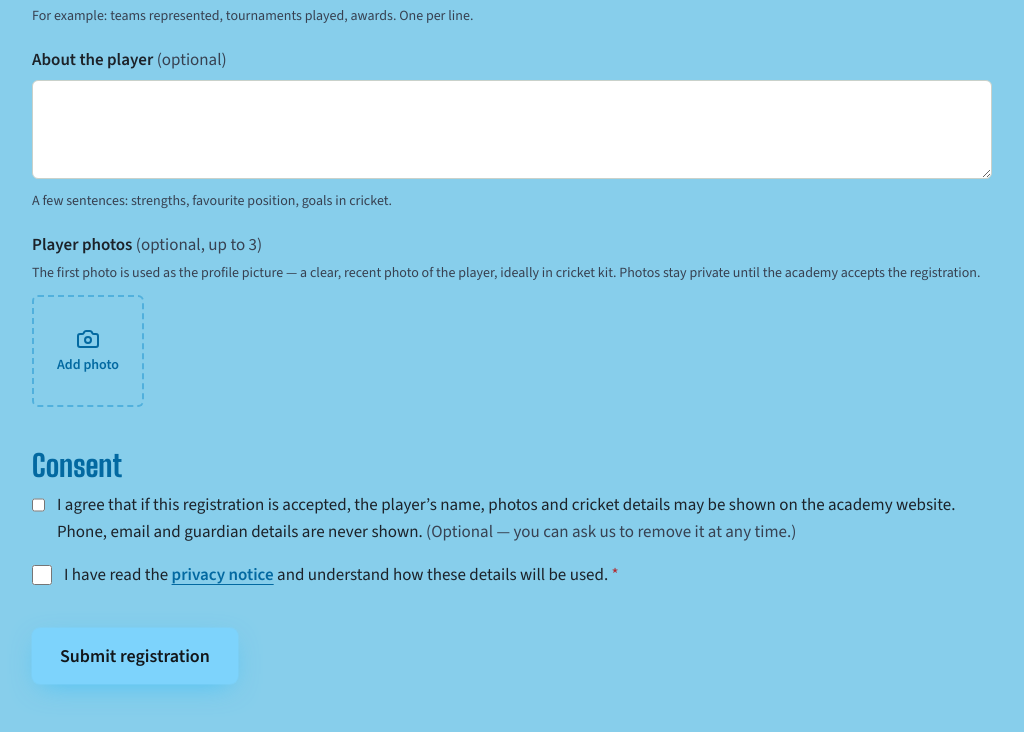
Registration form › shows validation errors and does not submit an empty form
(page scrolled)
What coordinates should you click on to do the following:
click the button "Submit registration"
I would click on:
 (135, 656)
Its box is [32,628,238,684].
(page scrolled)
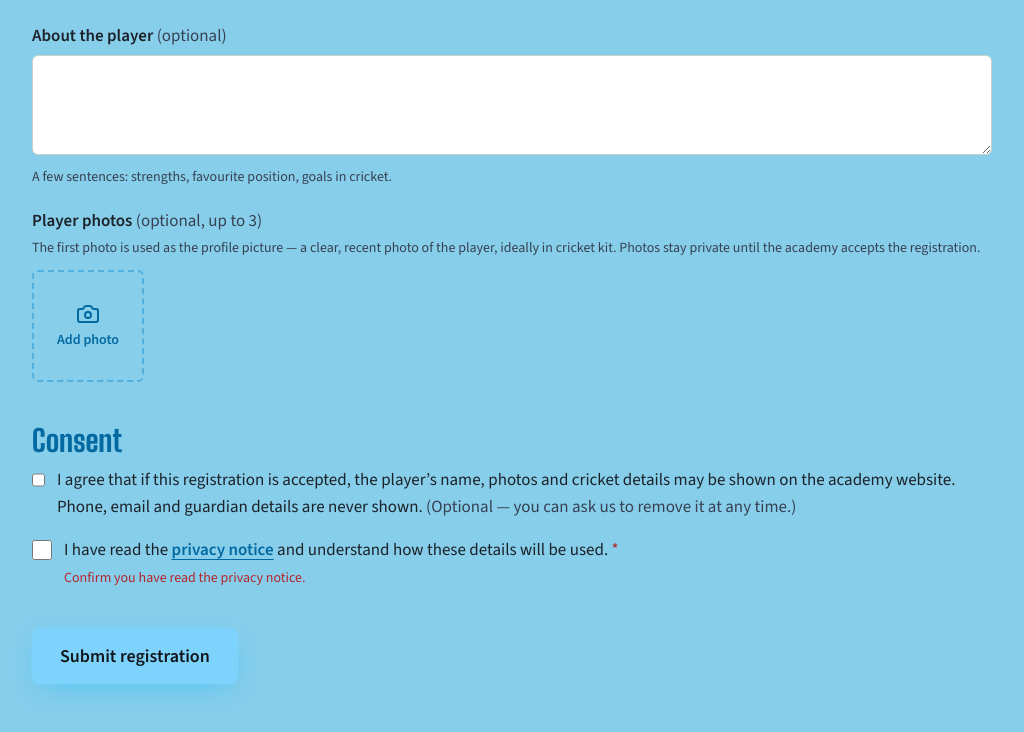
Result: the text "Confirm you have read the privacy notice." is shown at [64,568,306,586]
